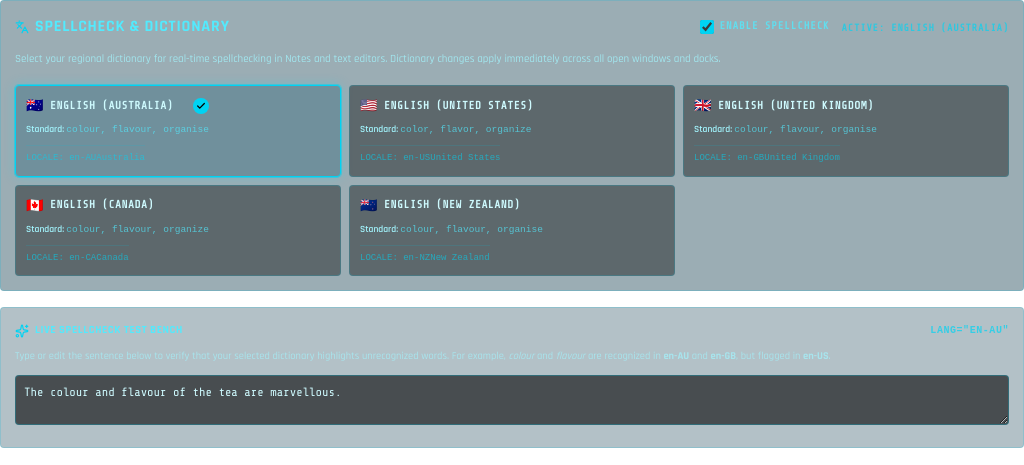
Test case: EditorTab component › switches locale when a locale button is clicked
The image size is (1024, 465).
Click the button with aria-label "Select spellcheck language English (United States)": (512, 131) [349, 85, 675, 177]
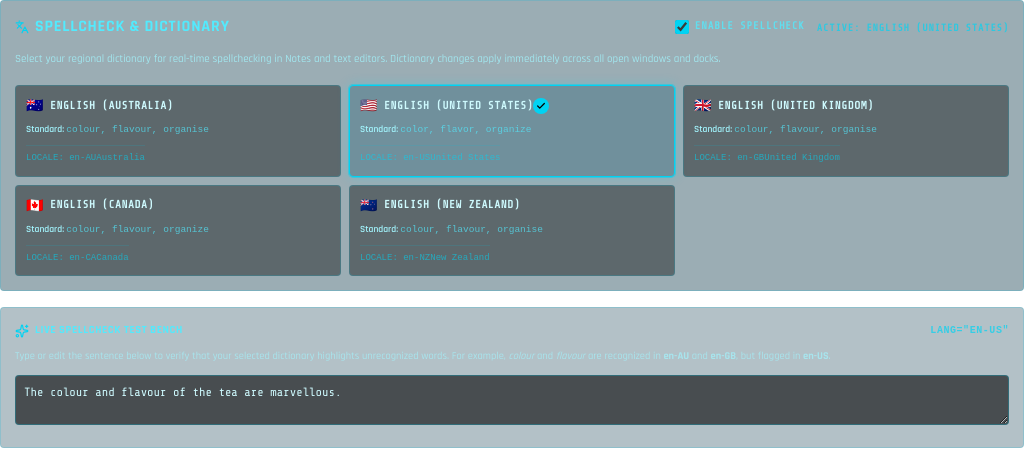
Expected: the text "en-US" is shown, [803, 349, 828, 363]
Expected: the text "ACTIVE: ENGLISH (UNITED STATES)" is shown, [817, 20, 1009, 34]
